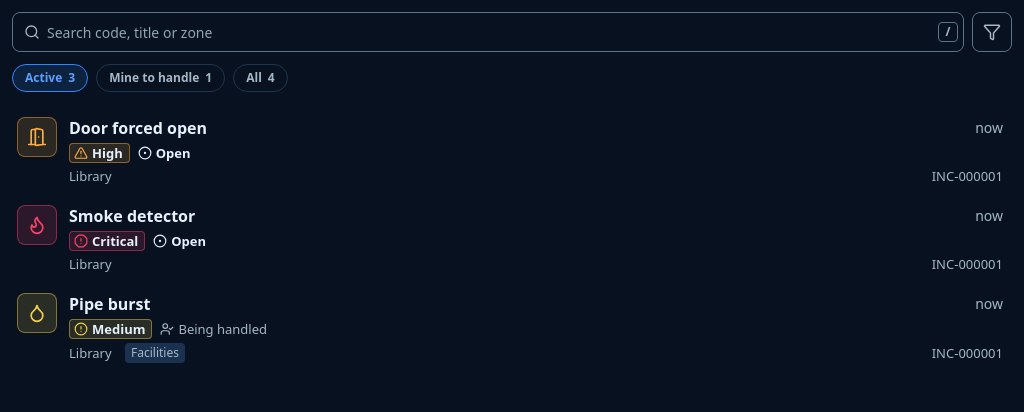
IncidentFeed › category filter › narrows a technician's Mine to handle as well
Click the tab "Mine to handle 1" at x=161, y=78, box x1=96 y1=64 x2=225 y2=92
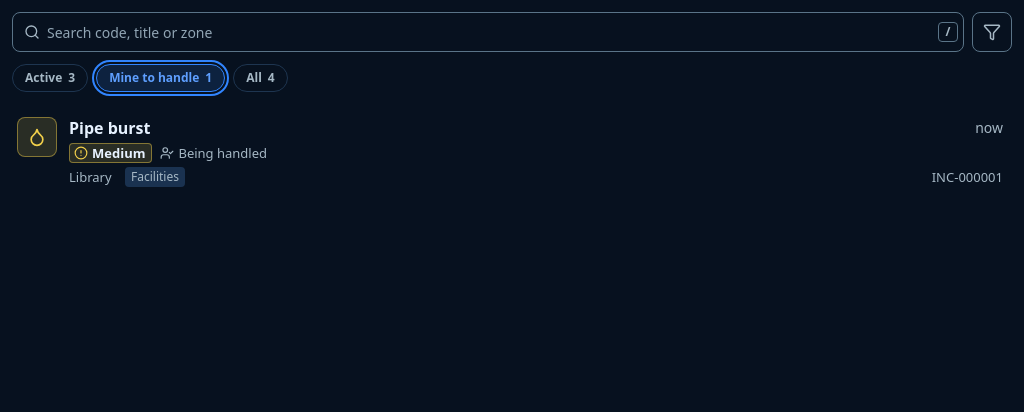
Check: the text "Pipe burst" is shown, box x1=69 y1=117 x2=150 y2=139
Click the button named "Filter by category" at x=992, y=32, box x1=972 y1=12 x2=1012 y2=52
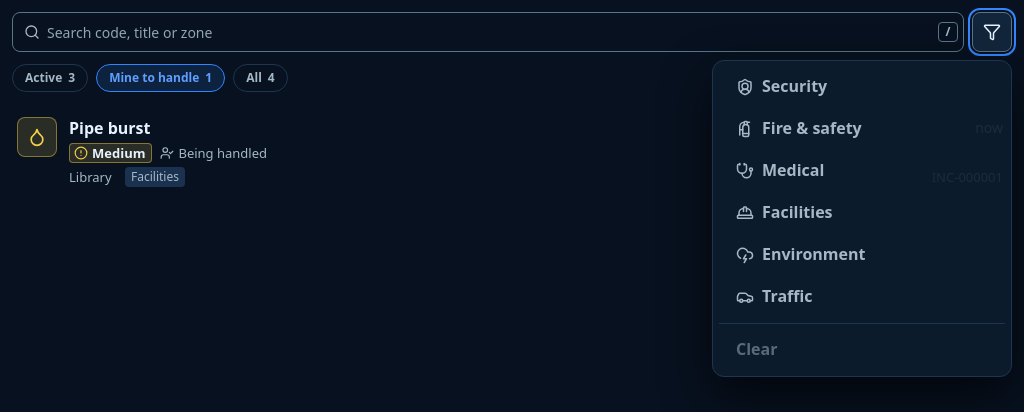
Click the button "Security" at x=795, y=86, box x1=719 y1=67 x2=1005 y2=107
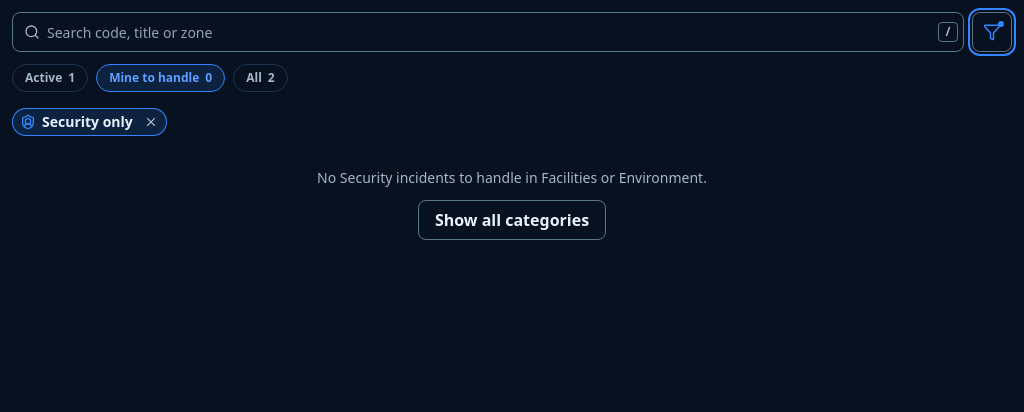
Check: the button "Pipe burst" is gone
Check: the text "No Security incidents to handle in Facilities or Environment." is shown, box x1=317 y1=168 x2=707 y2=188
